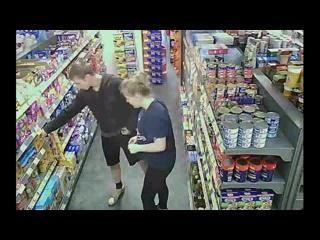Normal: (44, 60, 142, 208), (120, 75, 177, 210)
